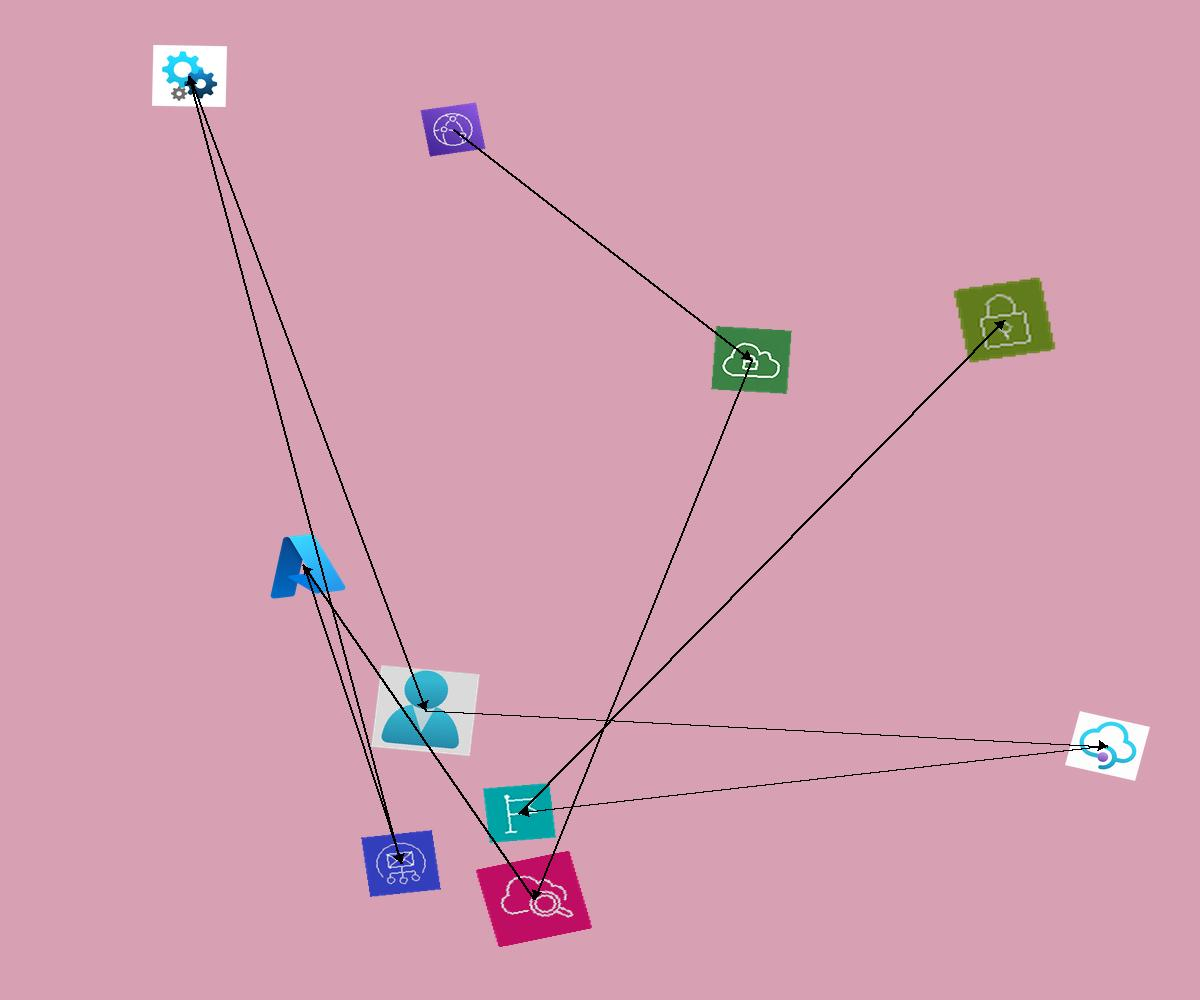AWS-CloudFront: (420, 102, 486, 157)
AWS-CloudWatch: (475, 850, 593, 948)
AWS-Private_vpc: (711, 326, 792, 394)
AWS-Public-subnet: (952, 276, 1057, 364)
AWS-Region: (483, 783, 556, 843)
AWS-Simple-Email-Service: (361, 830, 441, 897)
Azure_api: (152, 45, 227, 107)
Azure_api_gateway: (1065, 711, 1150, 781)
Azure_services: (257, 526, 350, 604)
Azure_users: (371, 665, 480, 756)
